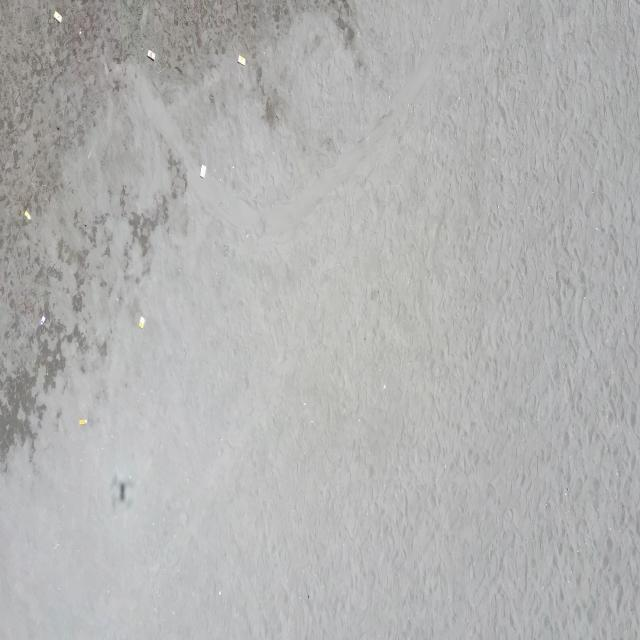Garbage: (111, 475, 134, 507), (52, 9, 60, 22), (200, 163, 206, 178), (23, 208, 30, 220), (148, 49, 155, 60), (236, 55, 244, 64), (77, 417, 87, 424), (138, 316, 143, 327), (39, 315, 44, 324)
